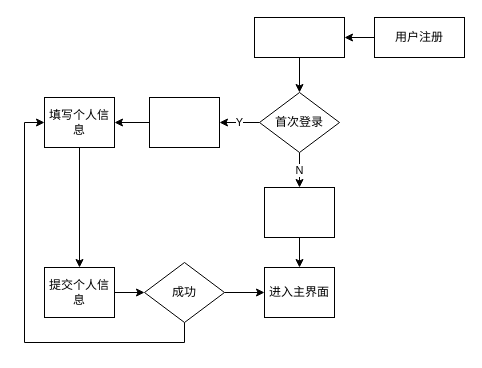
Image size: 482x368. Some labels were removed from this diagram. Each missing label, with the box of its shape:
用户登录: (254, 16, 344, 58)
获取用户配送地址: (264, 186, 334, 238)
选择城市: (148, 96, 220, 148)
